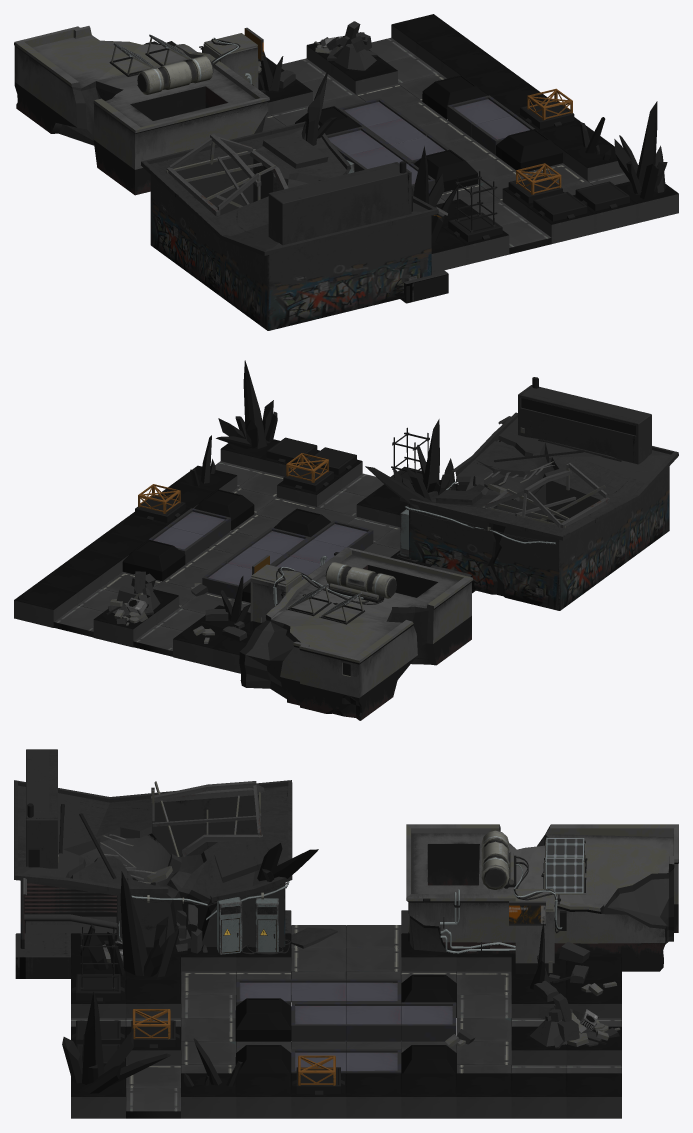
File: level_promote_a_1.fbx
3 renders of one model, top to bottom at view 1: azimuth 30°, elevation 25°; view 2: azimuth 150°, elevation 25°; view 3: azimuth 270°, elevation 25°, orthographic. The views are drawn at different scales.
Visible parts, largest first — view 1: S_outworld, S_playground; view 2: S_outworld, S_playground; view 3: S_outworld, S_playground.
Boxes of the visible parts, x1,y1,x2,y2 form: S_outworld: (14,21,667,330); S_playground: (258,14,678,270); S_outworld: (106,360,678,720); S_playground: (14,439,458,673); S_outworld: (14,749,678,1095); S_playground: (71,925,621,1118).
Bounding box in the file's own units: 10.46 × 3.12 × 12.07.
Materials: 2 (2 with a texture image).
